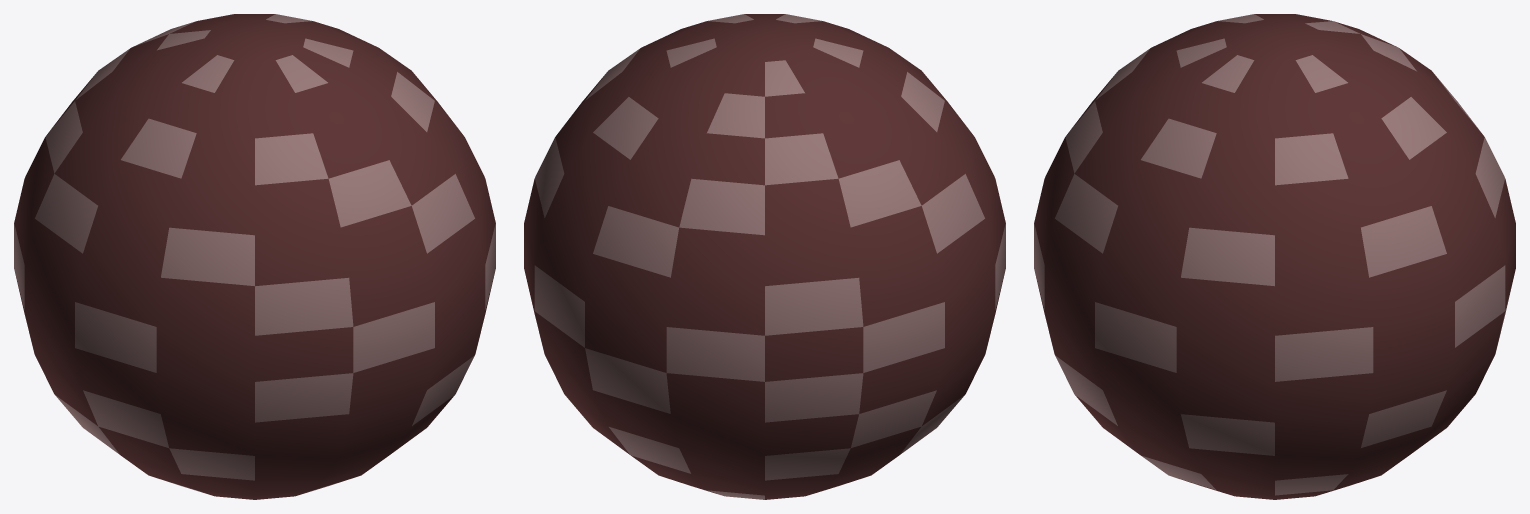
File: Boulder2.fbx
3 views of the same model, side by side, from view 1: azimuth 30°, elevation 25°; view 2: azimuth 150°, elevation 25°; view 3: azimuth 270°, elevation 25° (orthographic).
Visible parts, largest first — view 1: Boulder2; view 2: Boulder2; view 3: Boulder2.
Boxes of the visible parts, x1,y1,x2,y2 form: Boulder2: (14, 14, 495, 499); Boulder2: (524, 14, 1005, 499); Boulder2: (1034, 14, 1515, 499).
Bounding box in the file's own units: 1.97 × 2 × 1.98.
